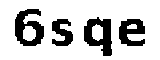6: (10, 4, 48, 50)
e: (118, 18, 151, 52)
q: (80, 15, 115, 60)
s: (48, 17, 76, 51)
